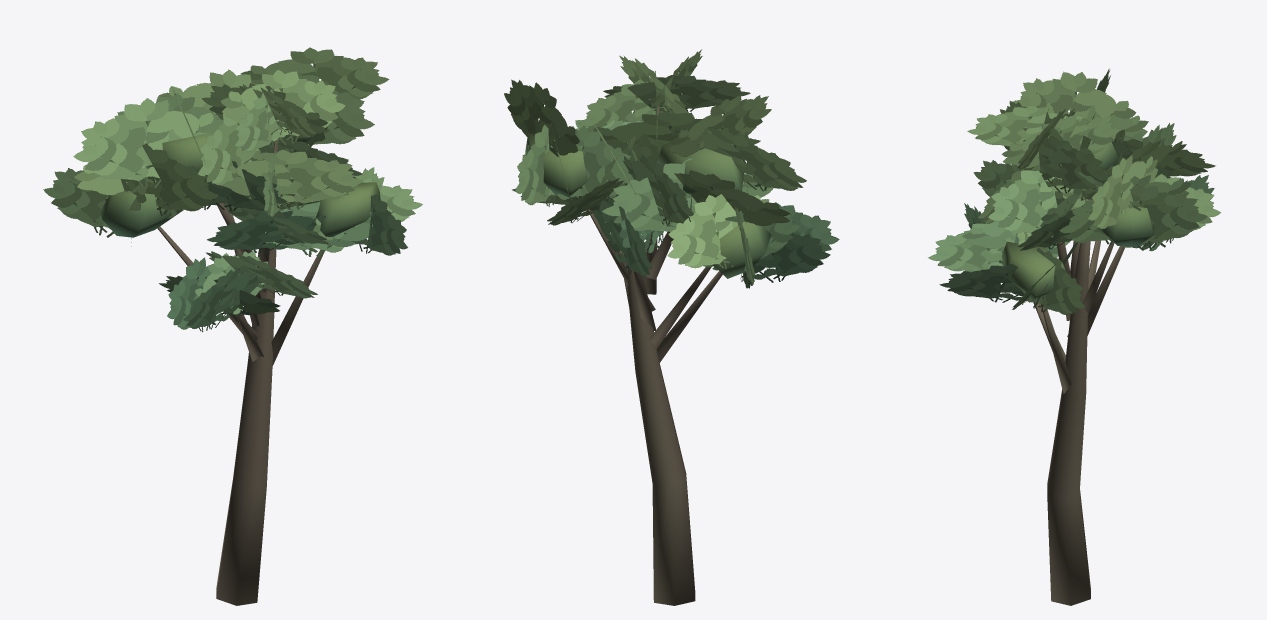
The model's file is canopy-a-far.glb.
The picture shows the model from 3 angles, left to right: view 1: azimuth 30°, elevation 25°; view 2: azimuth 150°, elevation 25°; view 3: azimuth 270°, elevation 25°; orthographic projection. The views are drawn at different scales.
Visible parts, largest first — view 1: broadleaf-sprays.001, forked-trunk.001, broadleaf-crown-planes.001; view 2: broadleaf-sprays.001, forked-trunk.001, broadleaf-crown-planes.001; view 3: broadleaf-sprays.001, forked-trunk.001, broadleaf-crown-planes.001.
Part boxes in pixels (bbox=[...]): broadleaf-sprays.001: bbox=[43, 47, 422, 332]; forked-trunk.001: bbox=[157, 129, 328, 605]; broadleaf-crown-planes.001: bbox=[100, 132, 380, 237]; broadleaf-sprays.001: bbox=[504, 49, 839, 288]; forked-trunk.001: bbox=[580, 105, 722, 605]; broadleaf-crown-planes.001: bbox=[525, 133, 771, 278]; broadleaf-sprays.001: bbox=[928, 68, 1220, 314]; forked-trunk.001: bbox=[1035, 199, 1124, 605]; broadleaf-crown-planes.001: bbox=[1001, 137, 1154, 300].
Bounding box in the file's own units: 4.78 × 6.75 × 4.22.
2 materials, 1 textured.
